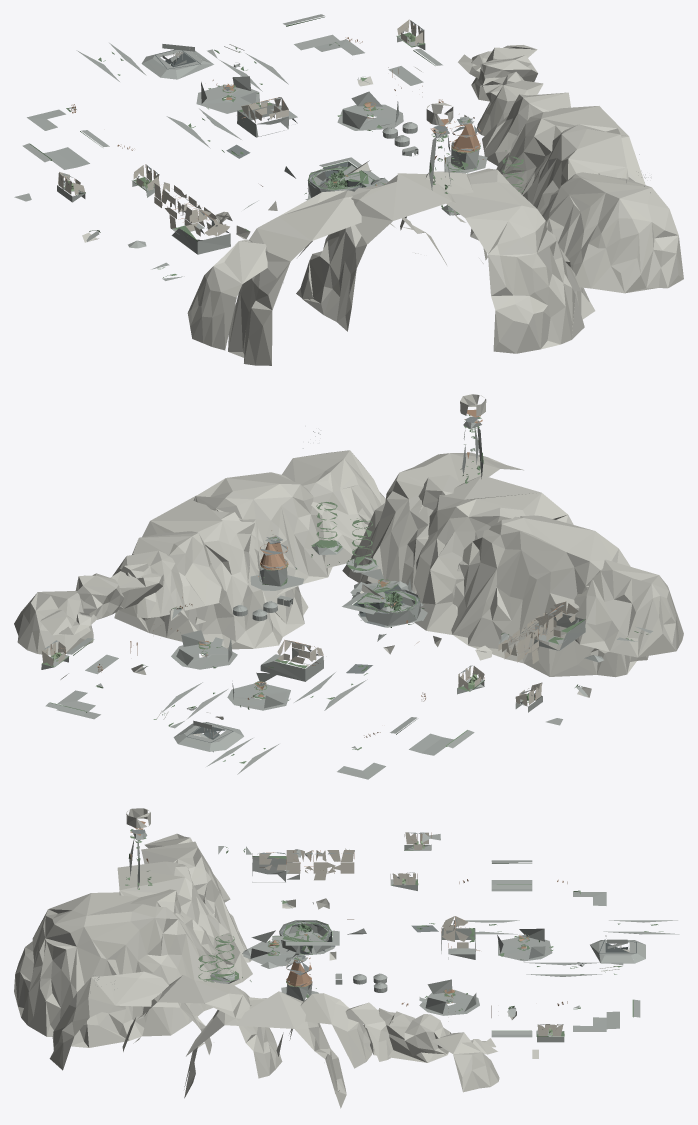
Rendered from water_treatment_plant_1.glb.
3 renders of one model, top to bottom at view 1: azimuth 30°, elevation 25°; view 2: azimuth 150°, elevation 25°; view 3: azimuth 270°, elevation 25°, orthographic. The views are drawn at different scales.
Visible parts, largest first — view 1: sewer_tunnel_300_ladder_LOD0, rubble_pile_3x3_LOD0, cooling_tower_collapsed_bits_a_LOD0, industrial_bld_f_LOD0, road_9x15_end_LOD0, sewer_drainwall_600_bridge_LOD0; view 2: sewer_tunnel_300_ladder_LOD0, rubble_pile_3x3_LOD0, cooling_tower_collapsed_bits_a_LOD0, industrial_bld_f_LOD0, road_9x15_end_LOD0; view 3: sewer_tunnel_300_ladder_LOD0, rubble_pile_3x3_LOD0, cooling_tower_collapsed_bits_a_LOD0, industrial_bld_f_LOD0, road_9x15_end_LOD0.
Part boxes in pixels (left/top/right/bottom): sewer_tunnel_300_ladder_LOD0: left=82, top=44, right=683, bottom=365; rubble_pile_3x3_LOD0: left=14, top=14, right=650, bottom=280; cooling_tower_collapsed_bits_a_LOD0: left=29, top=17, right=523, bottom=277; industrial_bld_f_LOD0: left=58, top=19, right=424, bottom=236; road_9x15_end_LOD0: left=60, top=21, right=645, bottom=220; sewer_drainwall_600_bridge_LOD0: left=155, top=49, right=373, bottom=187; sewer_tunnel_300_ladder_LOD0: left=14, top=394, right=683, bottom=738; rubble_pile_3x3_LOD0: left=41, top=420, right=652, bottom=779; cooling_tower_collapsed_bits_a_LOD0: left=42, top=409, right=648, bottom=763; industrial_bld_f_LOD0: left=42, top=601, right=578, bottom=705; road_9x15_end_LOD0: left=44, top=416, right=563, bottom=703; sewer_tunnel_300_ladder_LOD0: left=14, top=808, right=629, bottom=1108; rubble_pile_3x3_LOD0: left=94, top=832, right=679, bottom=1042; cooling_tower_collapsed_bits_a_LOD0: left=125, top=821, right=663, bottom=1036; industrial_bld_f_LOD0: left=252, top=832, right=563, bottom=1036; road_9x15_end_LOD0: left=131, top=829, right=563, bottom=1029.
Size of the model in its own units: 253 by 98.05 by 298.
